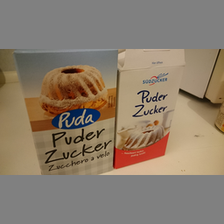sugar: (12, 50, 120, 174), (117, 54, 185, 169)
